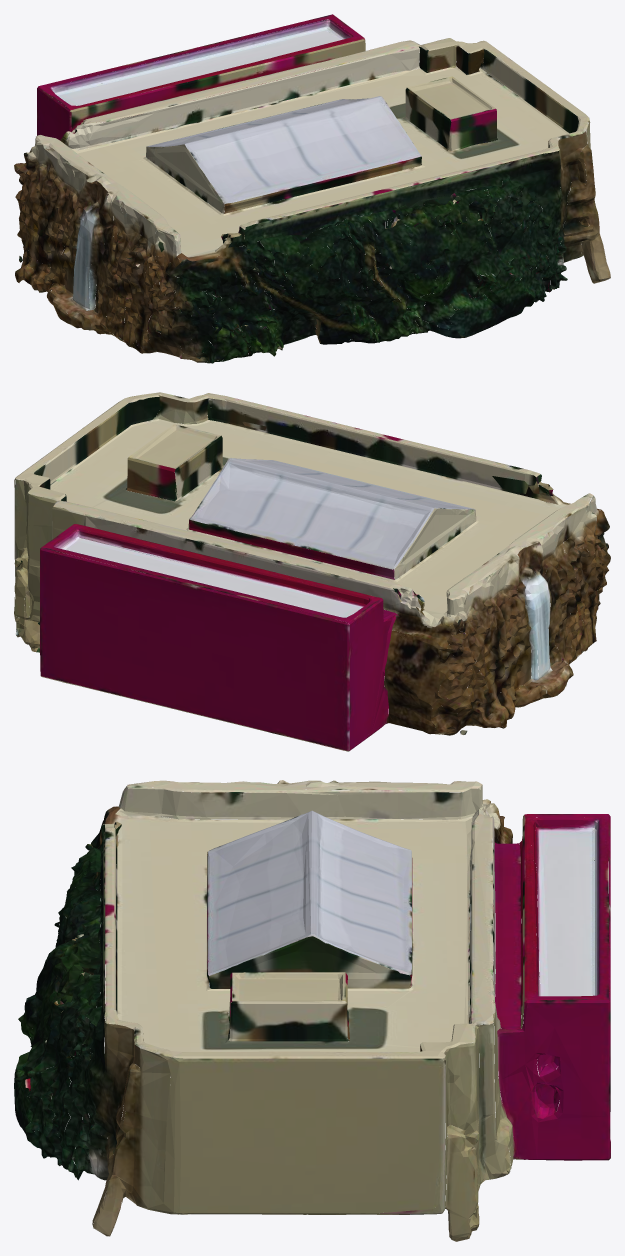
File: 04_theater_1.glb
The picture shows the model from 3 angles, top to bottom: view 1: azimuth 30°, elevation 25°; view 2: azimuth 150°, elevation 25°; view 3: azimuth 270°, elevation 25°; orthographic projection. The views are drawn at different scales.
Parts seen in each view (by area): view 1: 04_theater_1.ply; view 2: 04_theater_1.ply; view 3: 04_theater_1.ply.
Part boxes in pixels (x1,y1,x2,y2): 04_theater_1.ply: (14,14,610,363); 04_theater_1.ply: (14,392,610,751); 04_theater_1.ply: (14,780,610,1241).
Size of the model in its own units: 1 by 0.3514 by 0.8425.
1 material, 1 textured.
